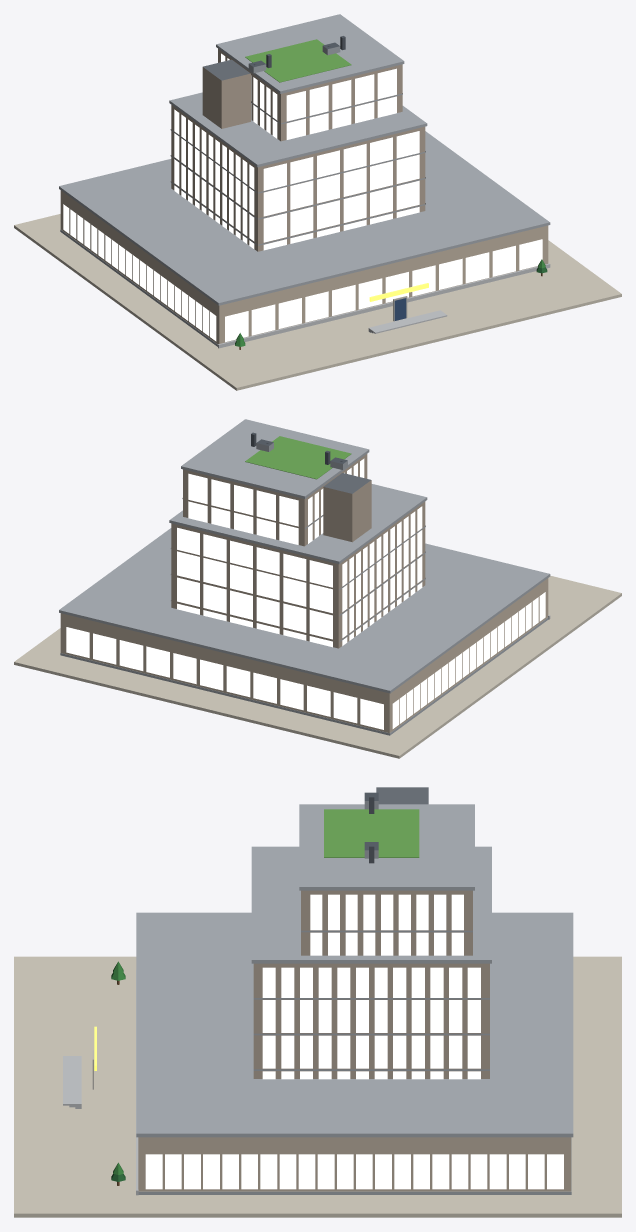
3 views of the same model, one above another, from view 1: azimuth 30°, elevation 25°; view 2: azimuth 150°, elevation 25°; view 3: azimuth 270°, elevation 25° (orthographic). The views are drawn at different scales.
Parts seen in each view (by area): view 1: b18_x4; view 2: b18_x4; view 3: b18_x4.
Part boxes in pixels (left/top/right/bottom): b18_x4: left=14, top=14, right=621, bottom=390; b18_x4: left=14, top=419, right=621, bottom=758; b18_x4: left=14, top=787, right=621, bottom=1217.
Size of the model in its own units: 3.96 by 1.97 by 3.96.
